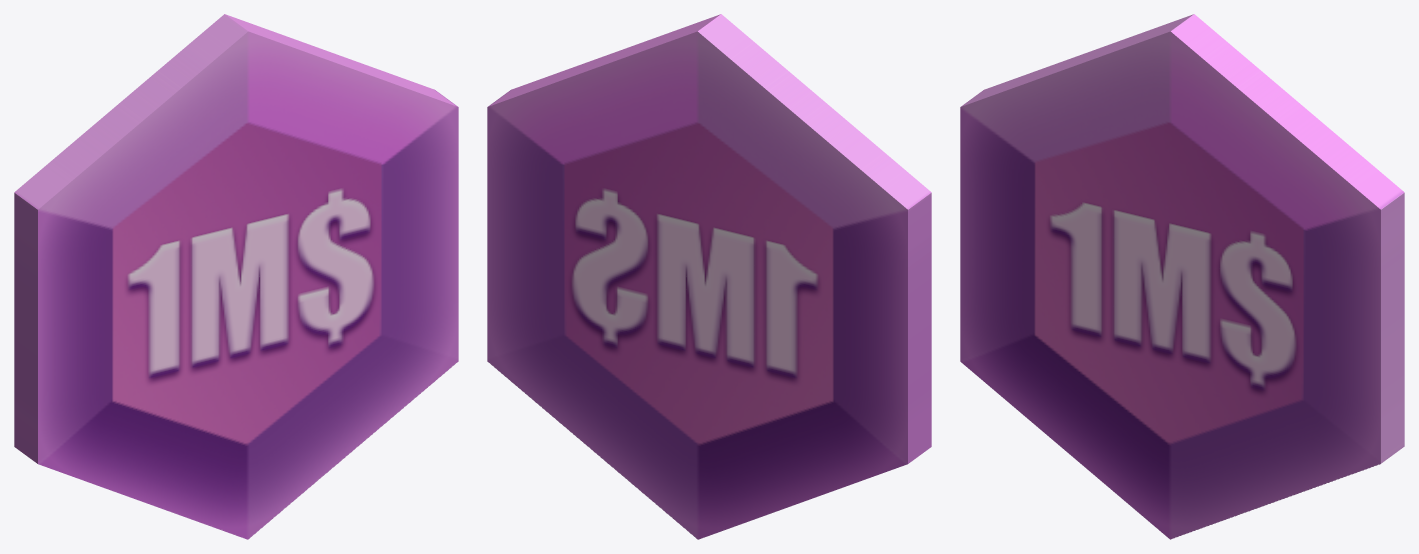
Rendered from 23_1MDollars.fbx.
The picture shows the model from 3 angles, left to right: view 1: azimuth 30°, elevation 25°; view 2: azimuth 150°, elevation 25°; view 3: azimuth 330°, elevation 25°; orthographic projection.
Parts seen in each view (by area): view 1: _1MDollars; view 2: _1MDollars; view 3: _1MDollars.
Part boxes in pixels (x1,y1,x2,y2): _1MDollars: (14,14,458,539); _1MDollars: (487,14,931,539); _1MDollars: (960,14,1404,539).
Bounding box in the file's own units: 77.94 × 90 × 7.63.
Materials: 1 (1 with a texture image).
